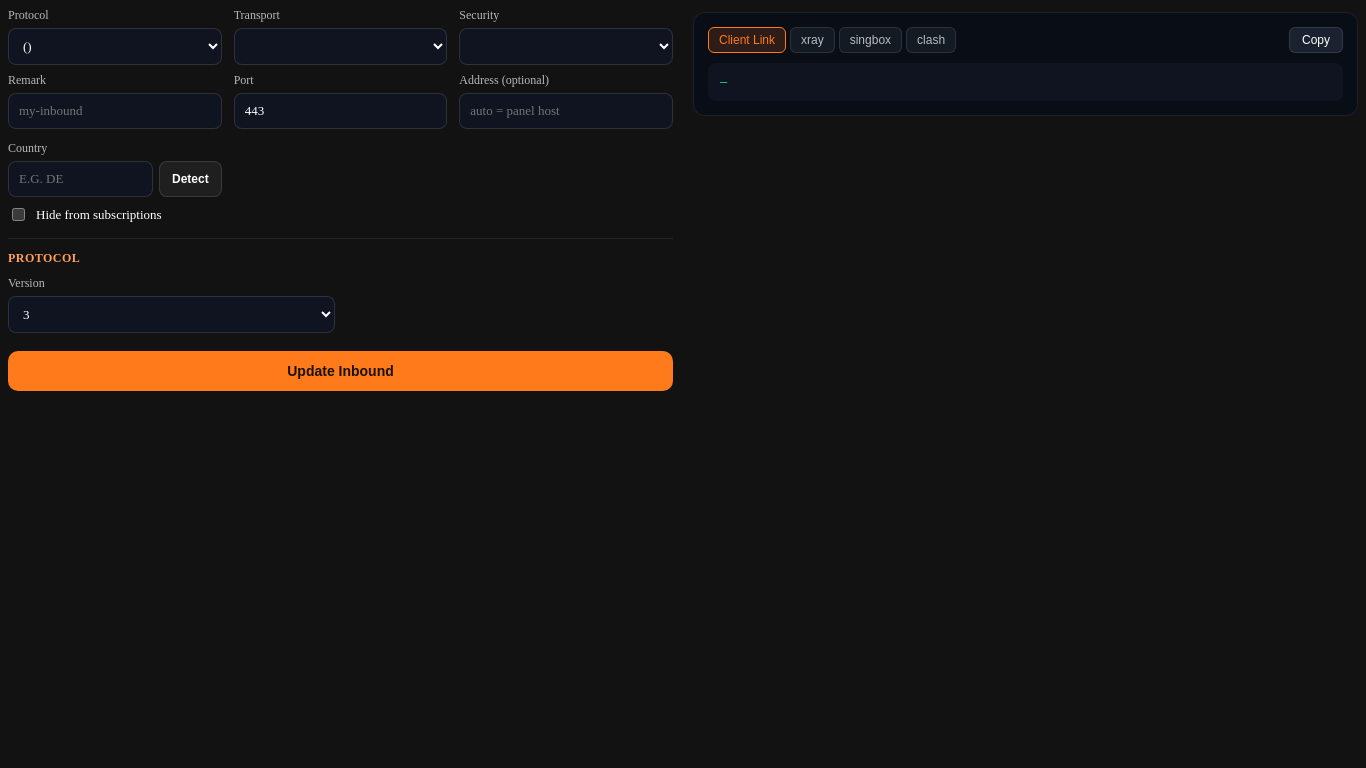
it: InboundForm breaking edits › shows which changes break, instead of a raw error
What coordinates should you click on to do the following:
click the button with test id "save-inbound"
I would click on:
 (340, 371)
Its box is [8,351,673,391].
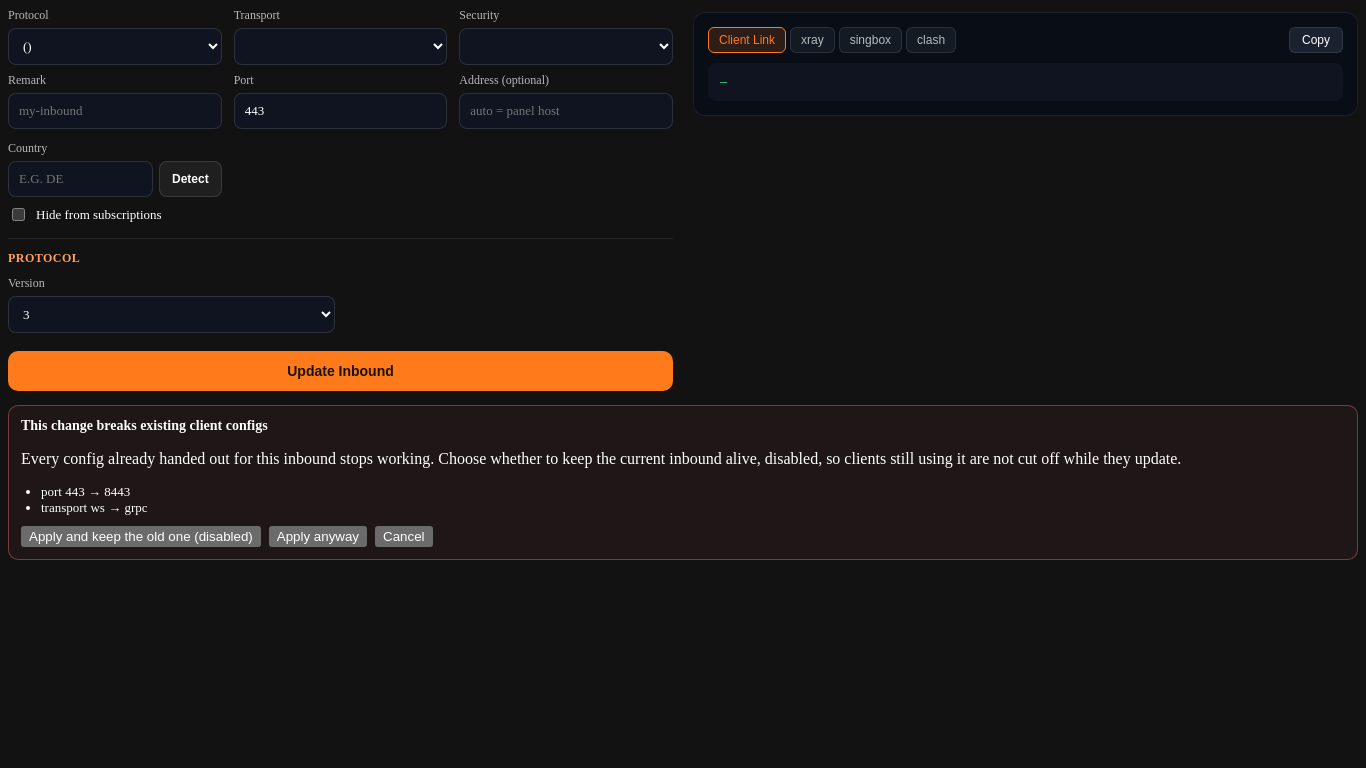
Now the element with test id "breaking-edit" shows "port 443", box [41,484,130,499]
Now the element with test id "breaking-edit" shows "transport ws", box [41,500,148,515]
